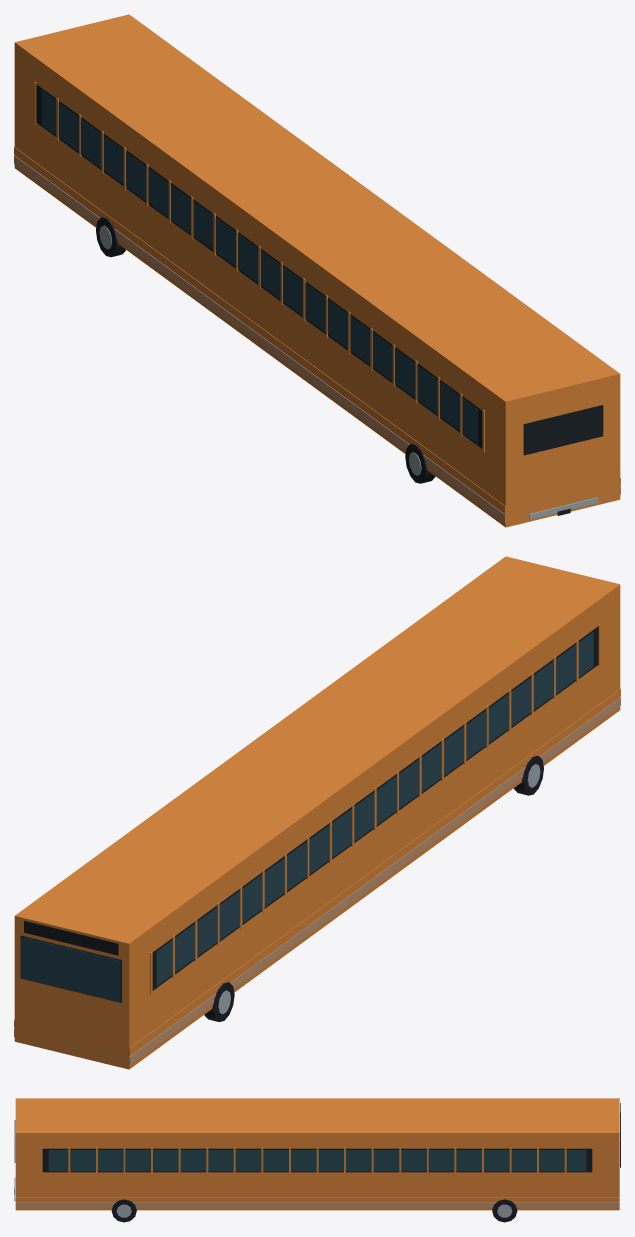
Rendered from traffic-train.glb.
The picture shows the model from 3 angles, top to bottom: view 1: azimuth 30°, elevation 25°; view 2: azimuth 150°, elevation 25°; view 3: azimuth 270°, elevation 25°; orthographic projection. The views are drawn at different scales.
Parts seen in each view (by area): view 1: lod_body, lod_glass, lod_dark, lod_skin, lod_metal; view 2: lod_body, lod_glass, lod_dark, lod_skin; view 3: lod_body, lod_glass, lod_skin, lod_dark, lod_metal.
Boxes of the visible parts, <box> form: lod_body: <box>14,14,620,527</box>; lod_glass: <box>41,90,478,443</box>; lod_dark: <box>36,84,603,515</box>; lod_skin: <box>14,155,620,522</box>; lod_metal: <box>99,225,598,519</box>; lod_body: <box>14,556,620,1069</box>; lod_glass: <box>21,632,593,1002</box>; lod_dark: <box>20,626,598,1021</box>; lod_skin: <box>14,697,620,1064</box>; lod_body: <box>15,1098,619,1210</box>; lod_glass: <box>48,1112,620,1171</box>; lod_skin: <box>15,1202,619,1207</box>; lod_dark: <box>14,1103,620,1222</box>; lod_metal: <box>14,1177,512,1217</box>.
Bounding box in the file's own units: 3.23 × 3.74 × 23.11.
